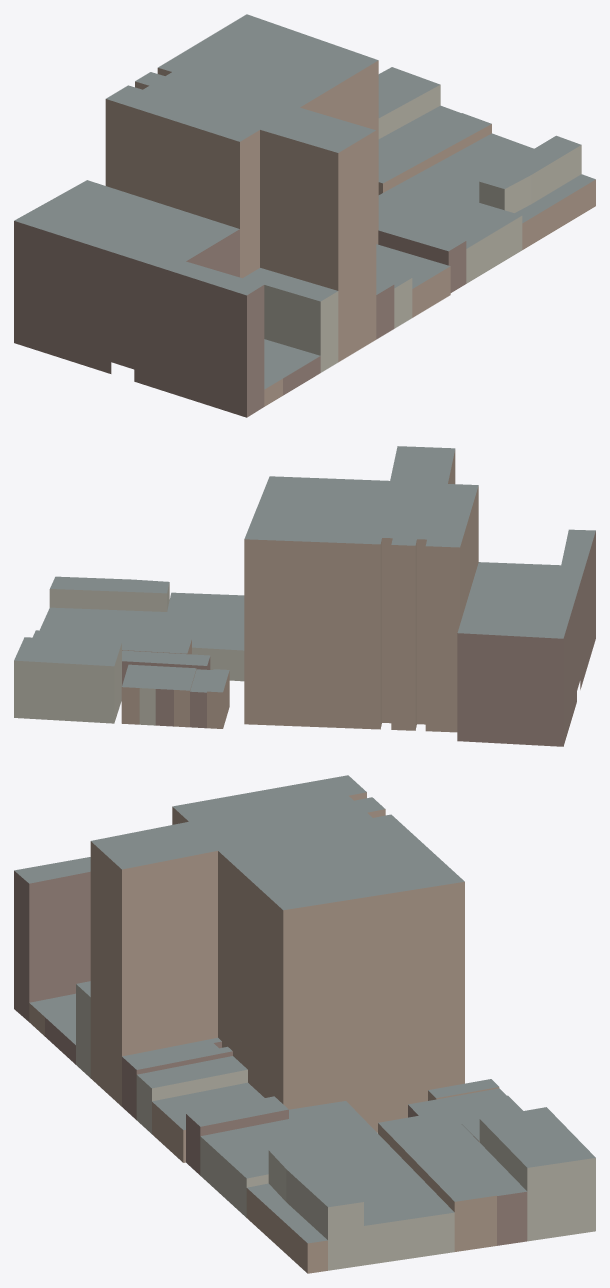
3 renders of one model, top to bottom at view 1: azimuth 30°, elevation 25°; view 2: azimuth 150°, elevation 25°; view 3: azimuth 270°, elevation 25°, orthographic. The views are drawn at different scales.
Parts seen in each view (by area): view 1: F2; view 2: F2; view 3: F2.
Boxes of the visible parts, box(x1,y1,x2,y2) form: F2: box(14, 14, 595, 417); F2: box(14, 446, 595, 746); F2: box(14, 775, 595, 1273).
Bounding box in the file's own units: 158 × 54.68 × 122.
